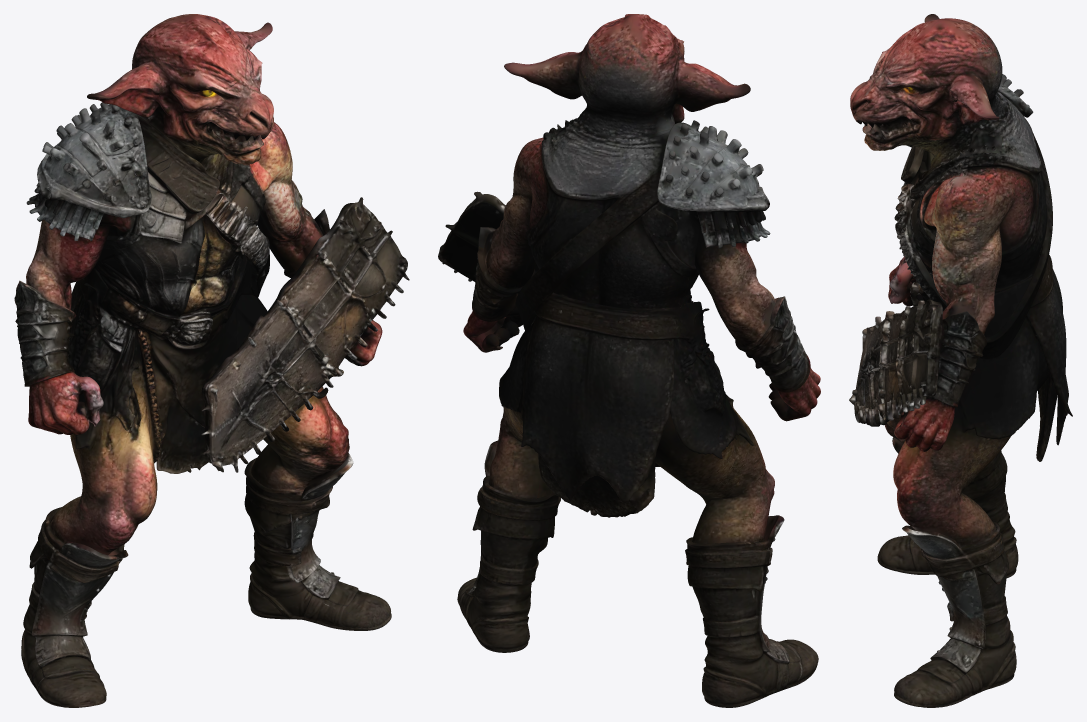
Rendered from kobold.glb.
The picture shows the model from 3 angles, left to right: view 1: azimuth 30°, elevation 25°; view 2: azimuth 150°, elevation 25°; view 3: azimuth 270°, elevation 25°; orthographic projection. The views are drawn at different scales.
Parts seen in each view (by area): view 1: material; view 2: material; view 3: material.
Boxes of the visible parts, <box> form: material: <box>14,14,409,707</box>; material: <box>438,14,820,707</box>; material: <box>849,14,1072,707</box>.
Size of the model in its own units: 0.6363 by 1.03 by 0.3443.
1 material, 1 textured.
